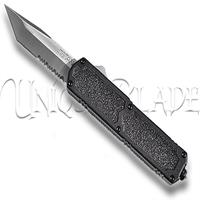knife: (2, 2, 194, 178)
